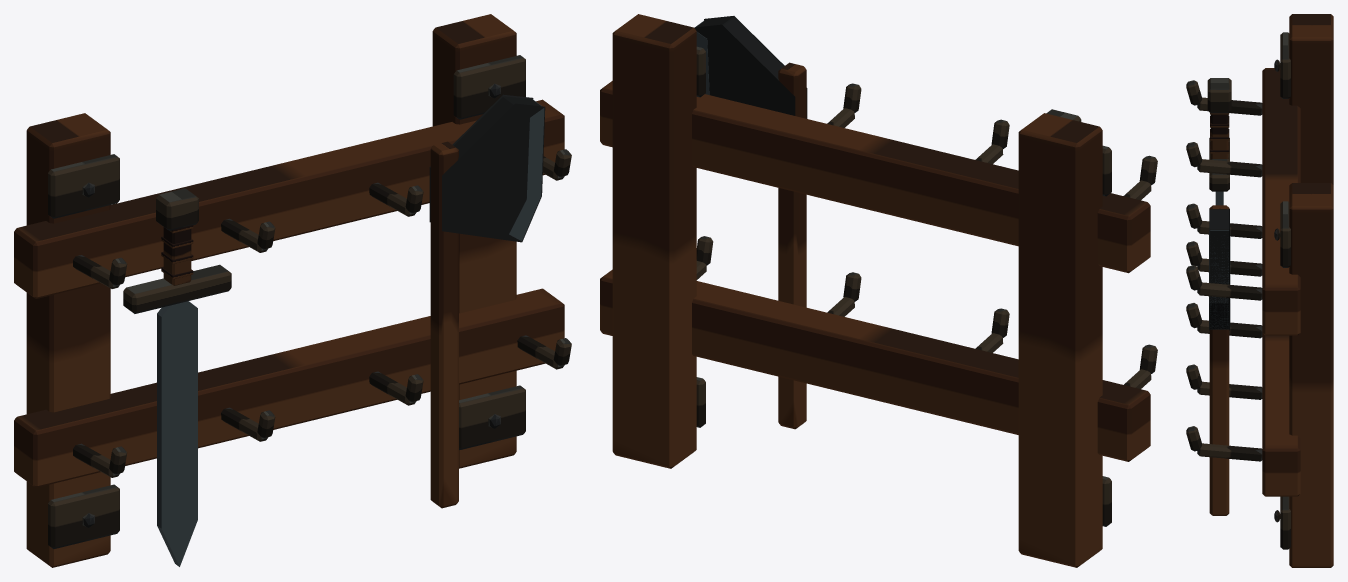
Rendered from WeaponRack_Wall_Loaded.fbx.
The picture shows the model from 3 angles, left to right: view 1: azimuth 30°, elevation 25°; view 2: azimuth 150°, elevation 25°; view 3: azimuth 270°, elevation 25°; orthographic projection. The views are drawn at different scales.
Parts seen in each view (by area): view 1: WeaponRack_Wall_Loaded; view 2: WeaponRack_Wall_Loaded; view 3: WeaponRack_Wall_Loaded.
Part boxes in pixels (x1=…): WeaponRack_Wall_Loaded: x1=14, y1=14, x2=571, y2=567; WeaponRack_Wall_Loaded: x1=600, y1=14, x2=1157, y2=567; WeaponRack_Wall_Loaded: x1=1186, y1=14, x2=1333, y2=567.
Bounding box in the file's own units: 1.65 × 1.26 × 0.4656.
4 materials, 4 textured.
